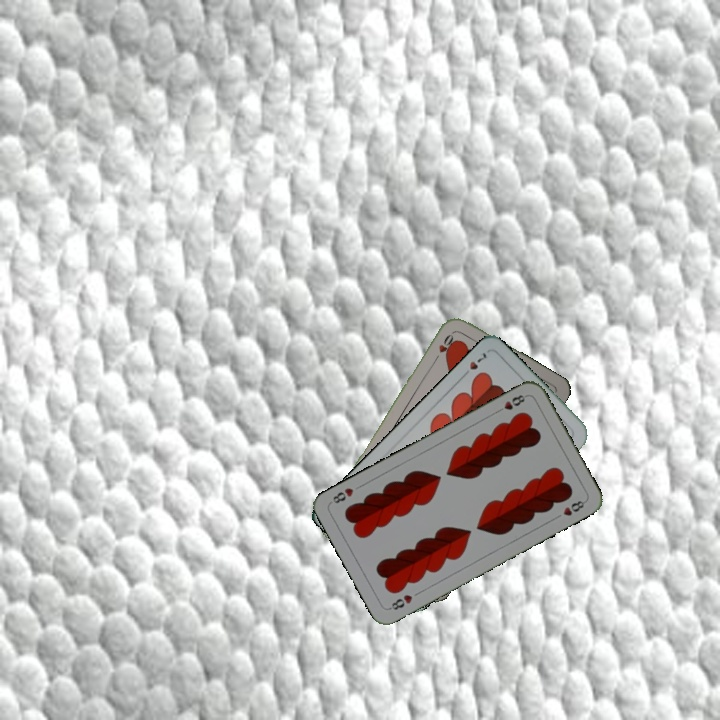H7: (458, 348, 491, 380)
H8: (492, 390, 530, 416), (385, 590, 415, 613)
HO: (430, 328, 457, 364)
